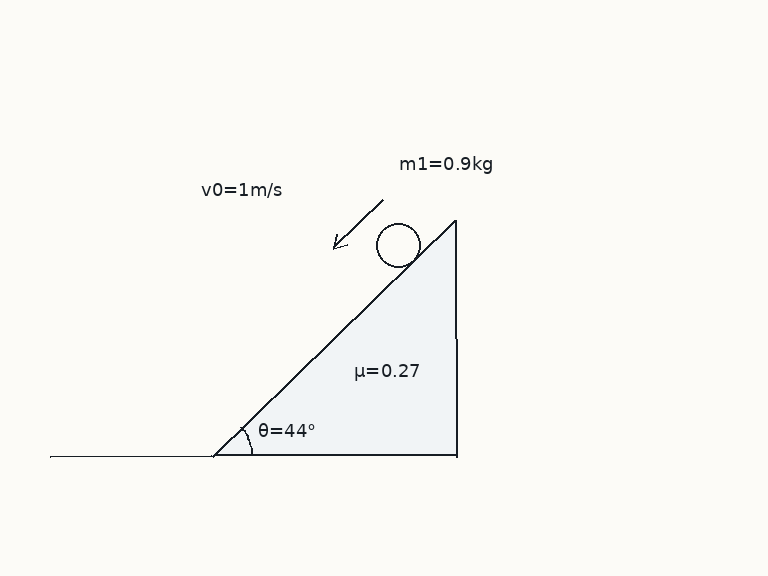ball: (374, 221, 422, 269)
ramp: (210, 218, 457, 457)
